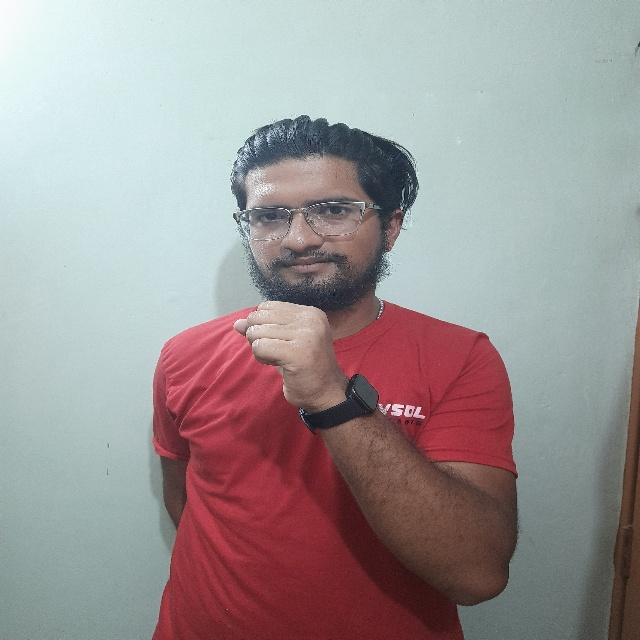Fist Mouth: (215, 107, 424, 436)
